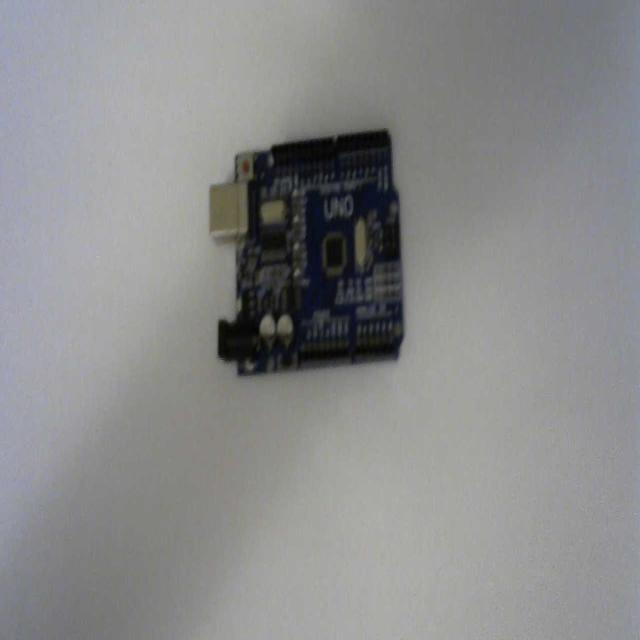arduino: (209, 119, 416, 383)
